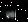person: (7, 9, 13, 21), (11, 11, 16, 21)
